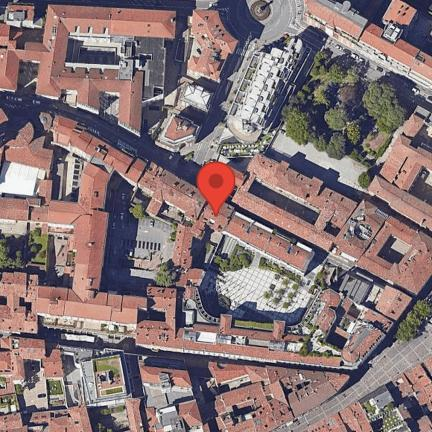area_open: (284, 331, 426, 429), (207, 246, 314, 328), (111, 192, 176, 284), (11, 348, 90, 409), (225, 8, 295, 46)
built: (0, 153, 432, 371), (3, 118, 312, 286), (3, 8, 181, 139), (298, 1, 432, 93), (164, 12, 242, 152), (201, 362, 350, 431), (224, 36, 310, 146), (304, 358, 429, 430), (371, 109, 430, 220), (120, 43, 182, 124), (2, 338, 70, 394), (2, 405, 93, 431), (124, 403, 201, 429)
vegetation_high: (285, 56, 412, 181), (382, 293, 429, 349), (0, 232, 45, 276)
